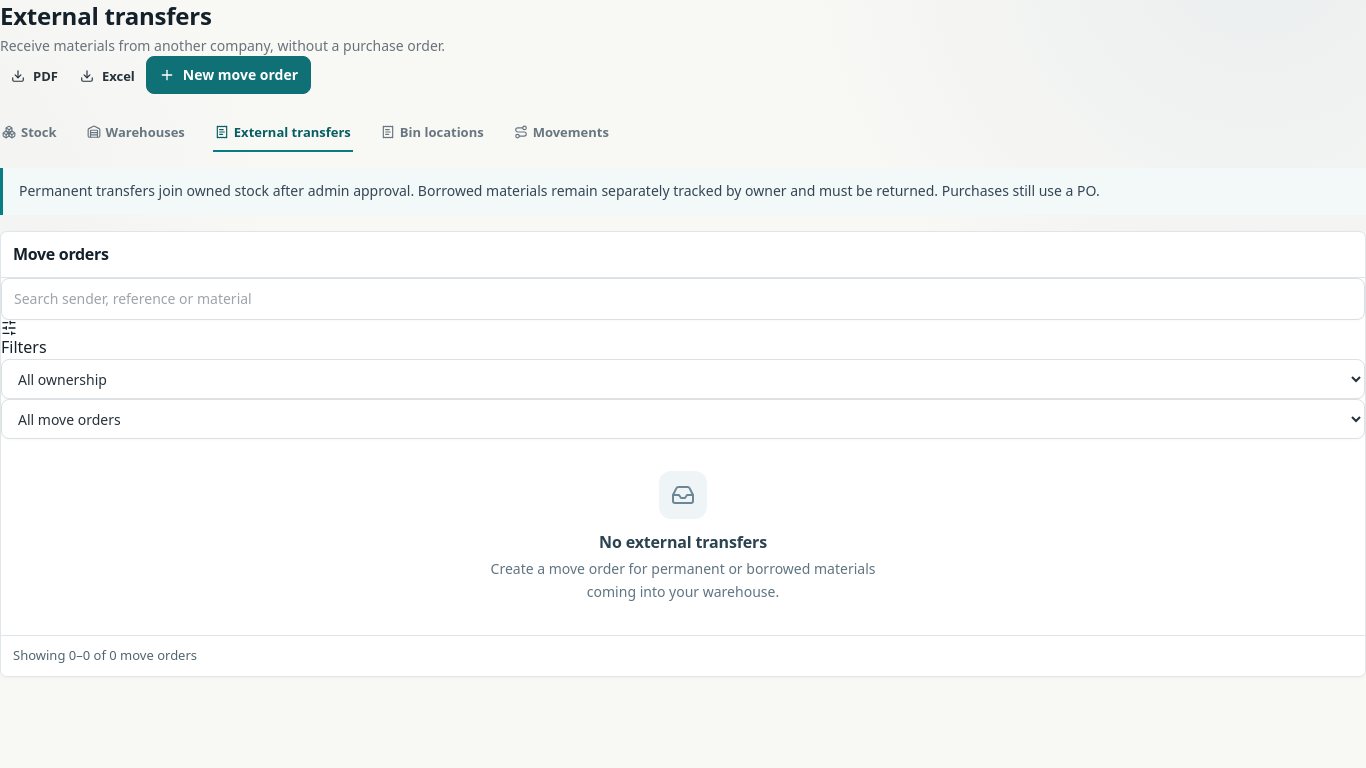
Test case: External transfers › shows ownership guidance, five-per-page register and a usable creation form
Expected: the heading "No external transfers" is shown, [599,531,767,553]
Step 1. Click the button "New move order" → click(228, 75), box [146,56,311,94]
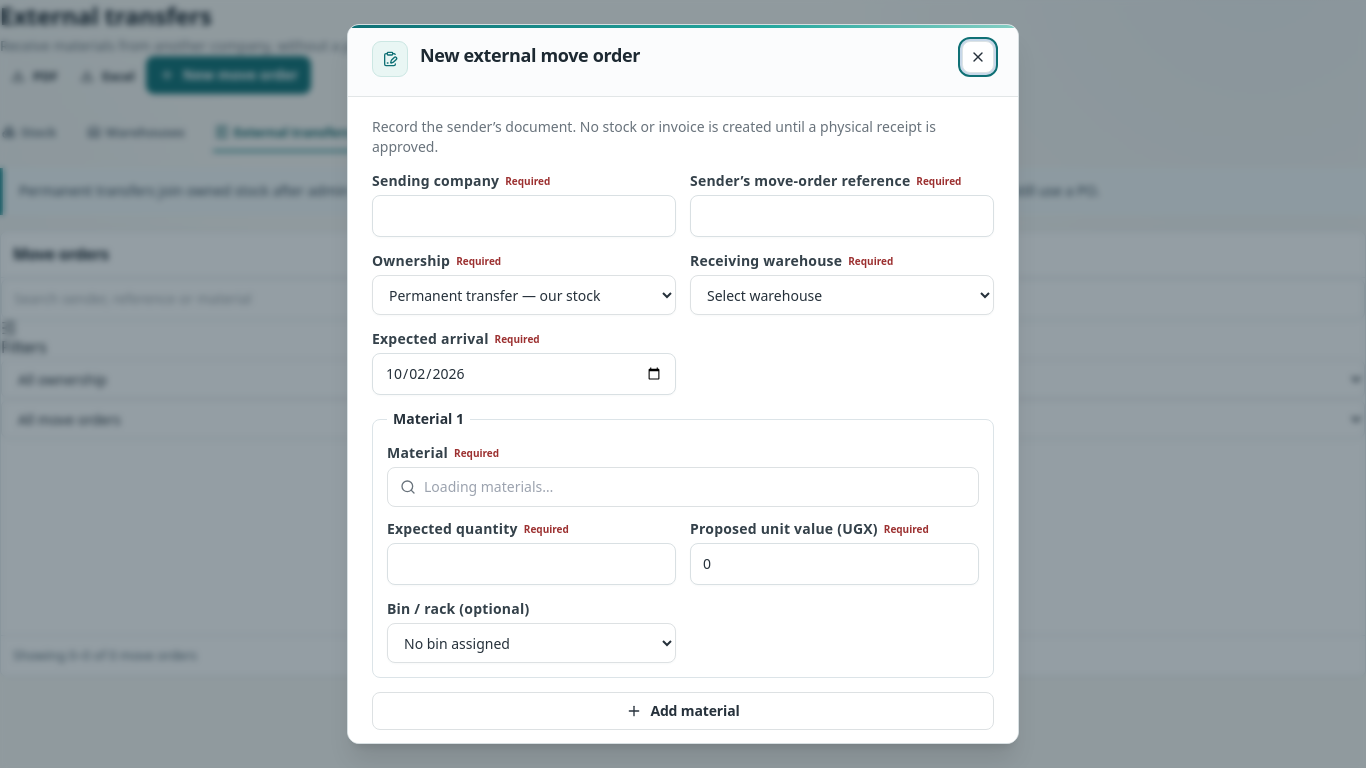
Expected: the dialog shows "No stock or invoice is created", [372,117,936,156]
Step 2. Select "Borrowed — return to owner" in the dropdown labelled "Ownership Required" → (524, 295), box [372,275,676,315]
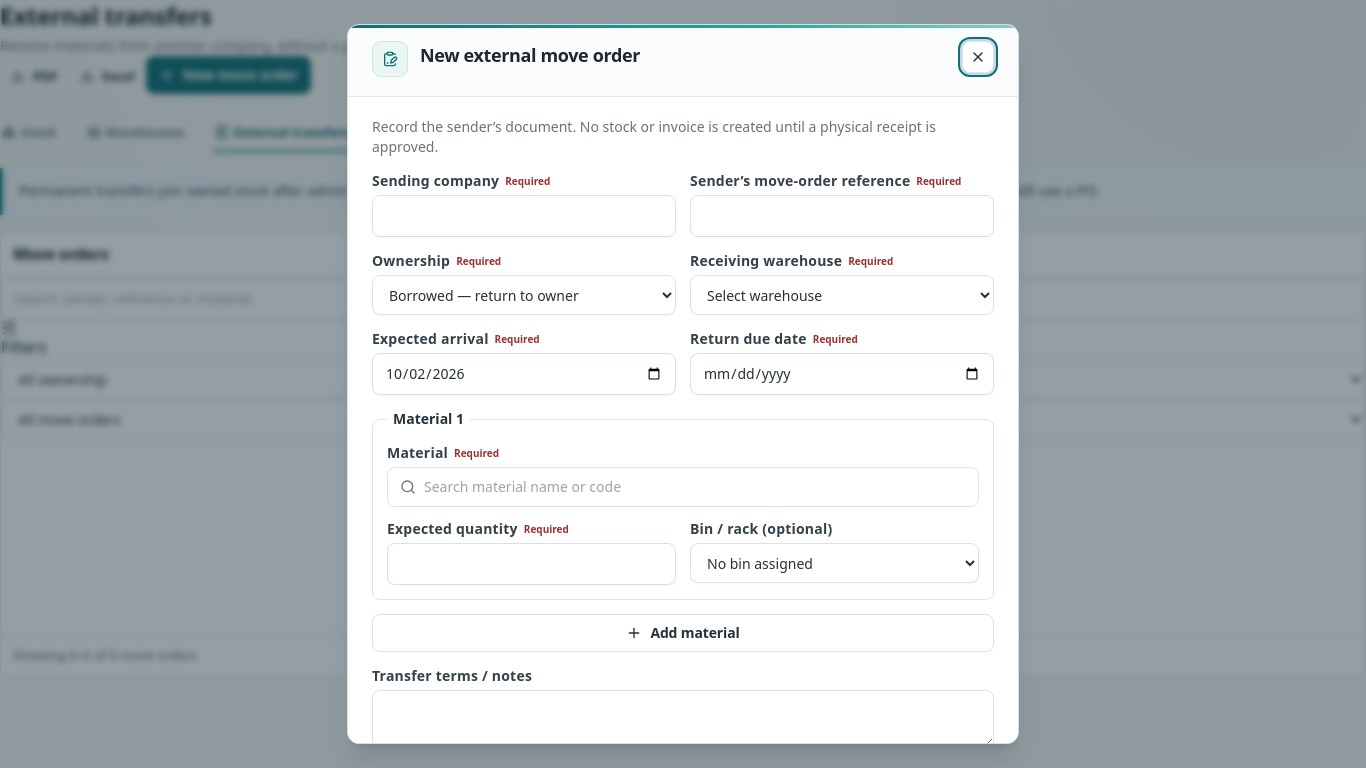
Expected: the field labelled "Proposed unit value" is gone
